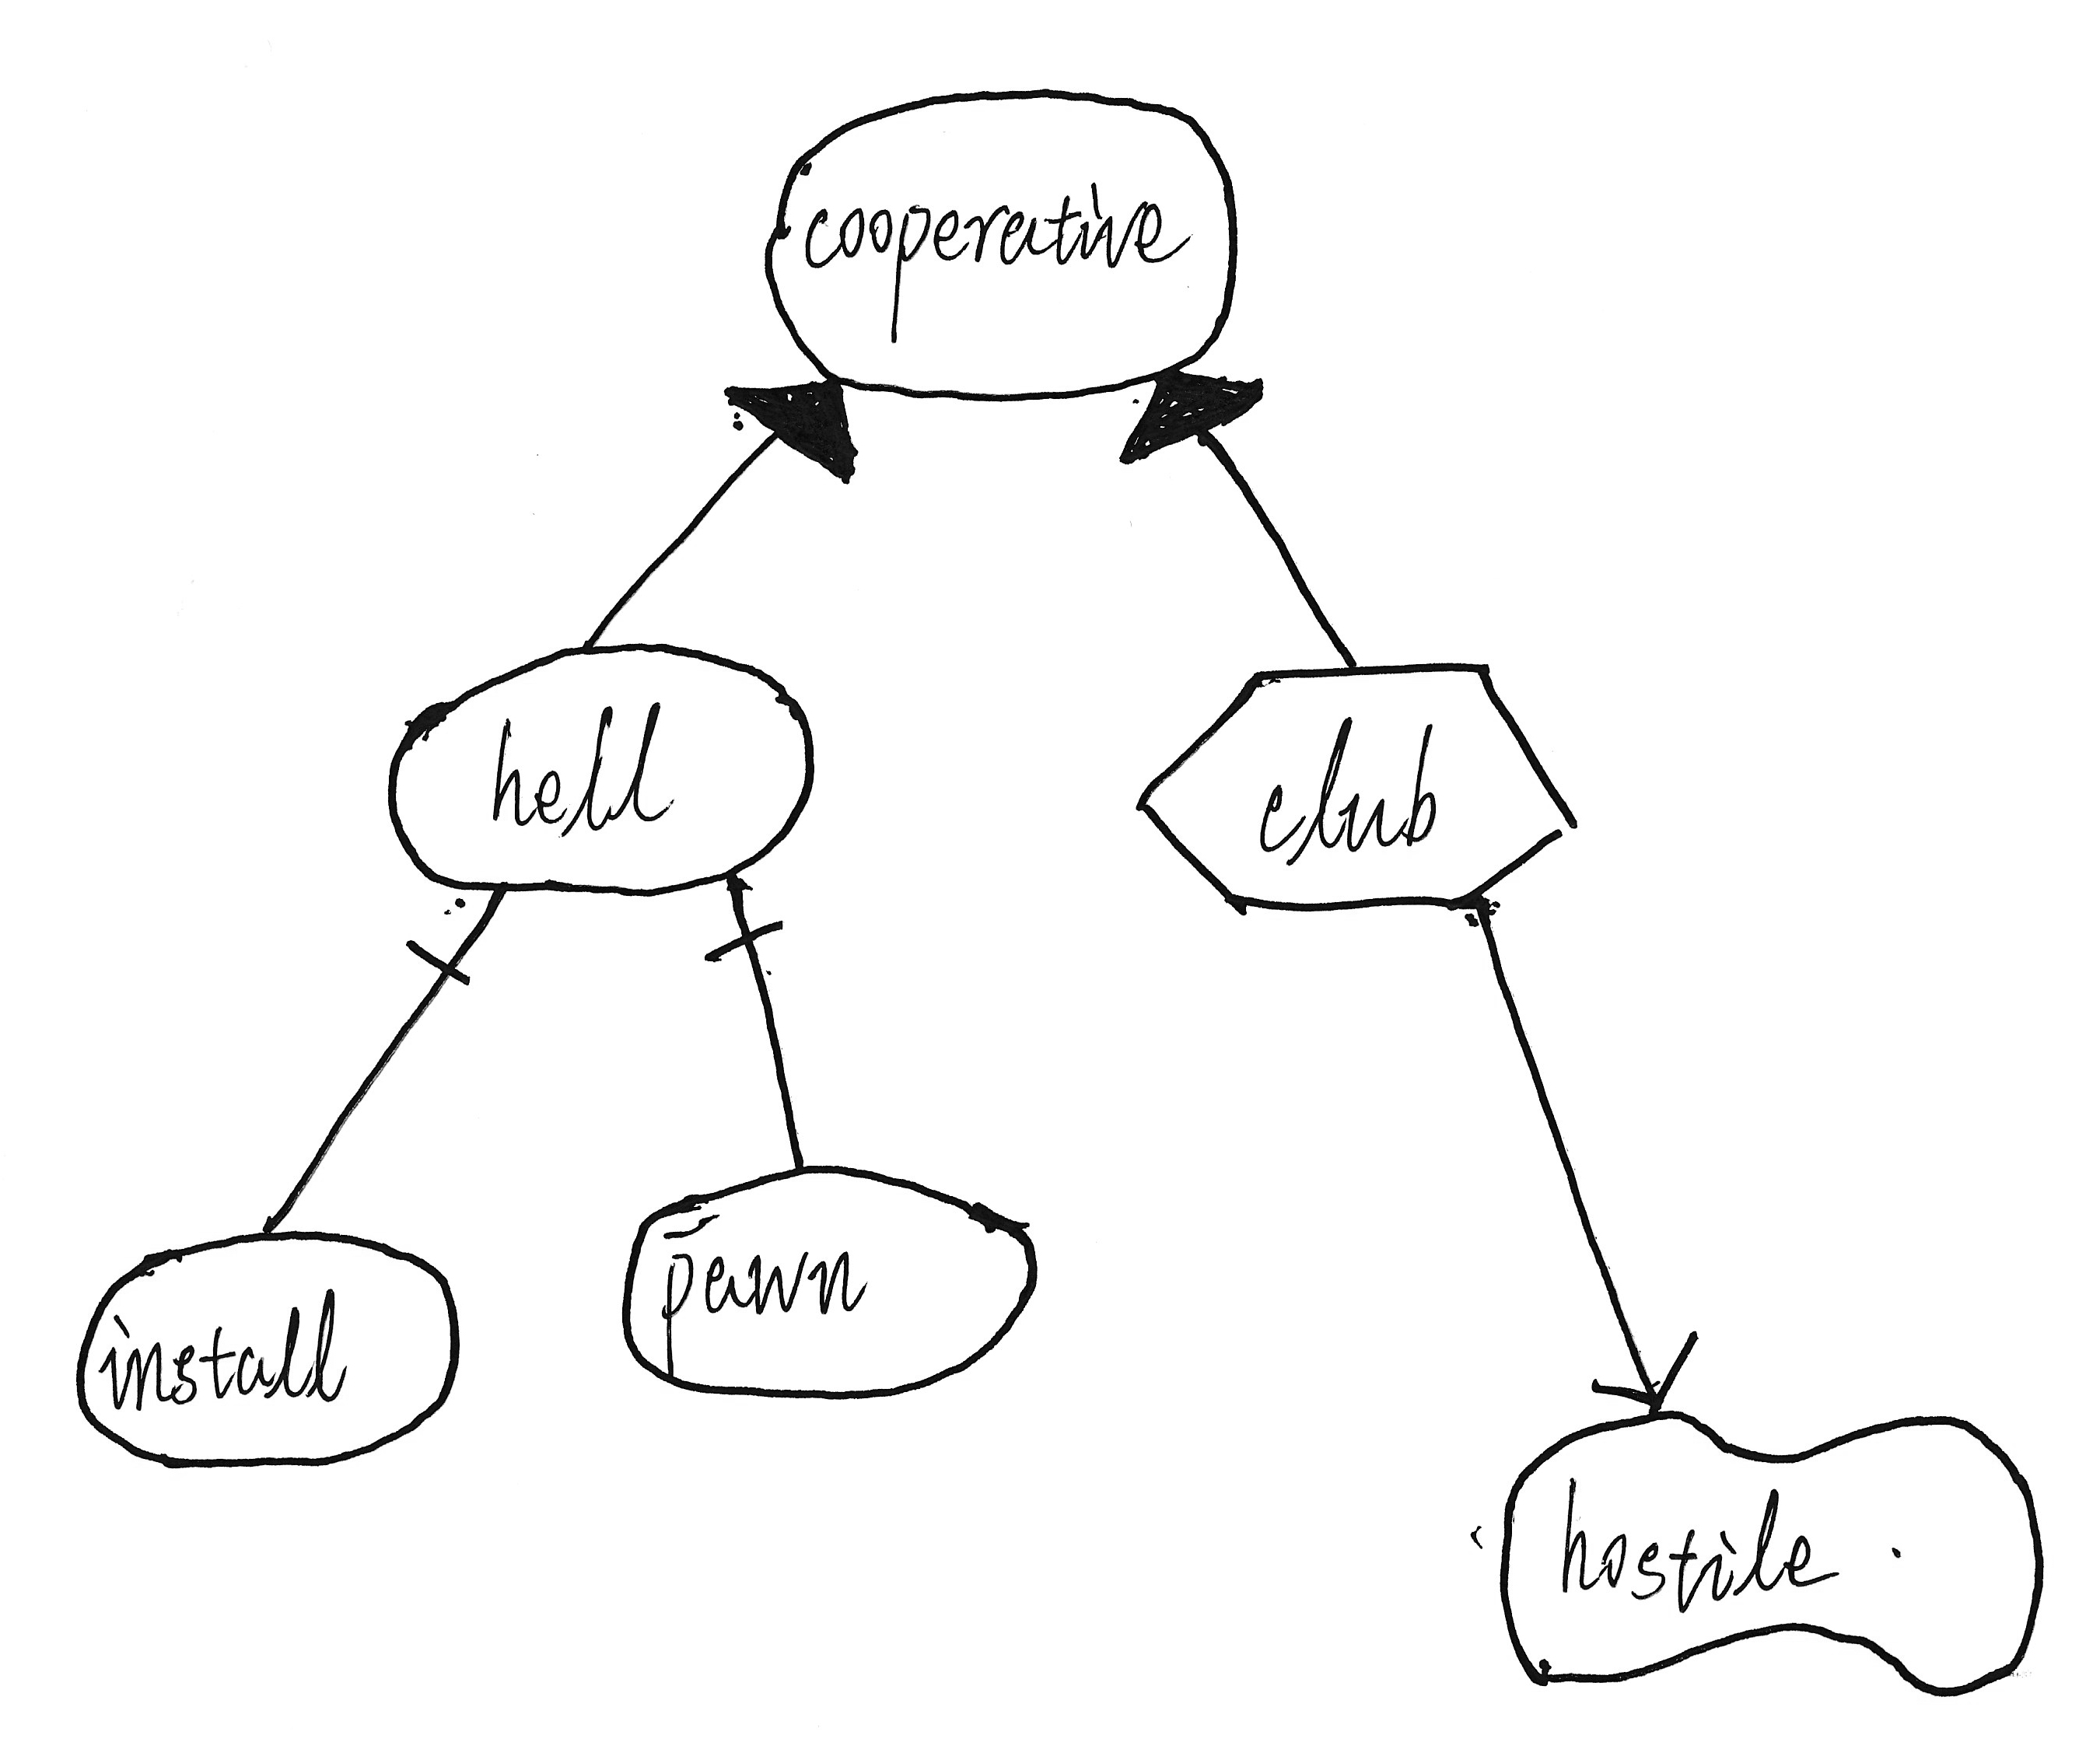and: (382, 903, 494, 1024), (684, 900, 808, 982)
arrow: (1584, 1317, 1713, 1425)
goal: (748, 71, 1244, 418), (372, 626, 825, 908), (605, 1149, 1055, 1418), (52, 1214, 481, 1486)
or: (706, 359, 869, 499), (1104, 359, 1282, 474)
quality: (1477, 1395, 2062, 1711)
task: (1120, 645, 1599, 928)
